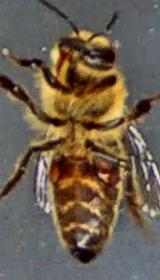varroa_mite: (86, 154, 125, 189), (44, 158, 64, 184)
